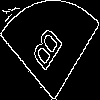B: (25, 25, 65, 81)
